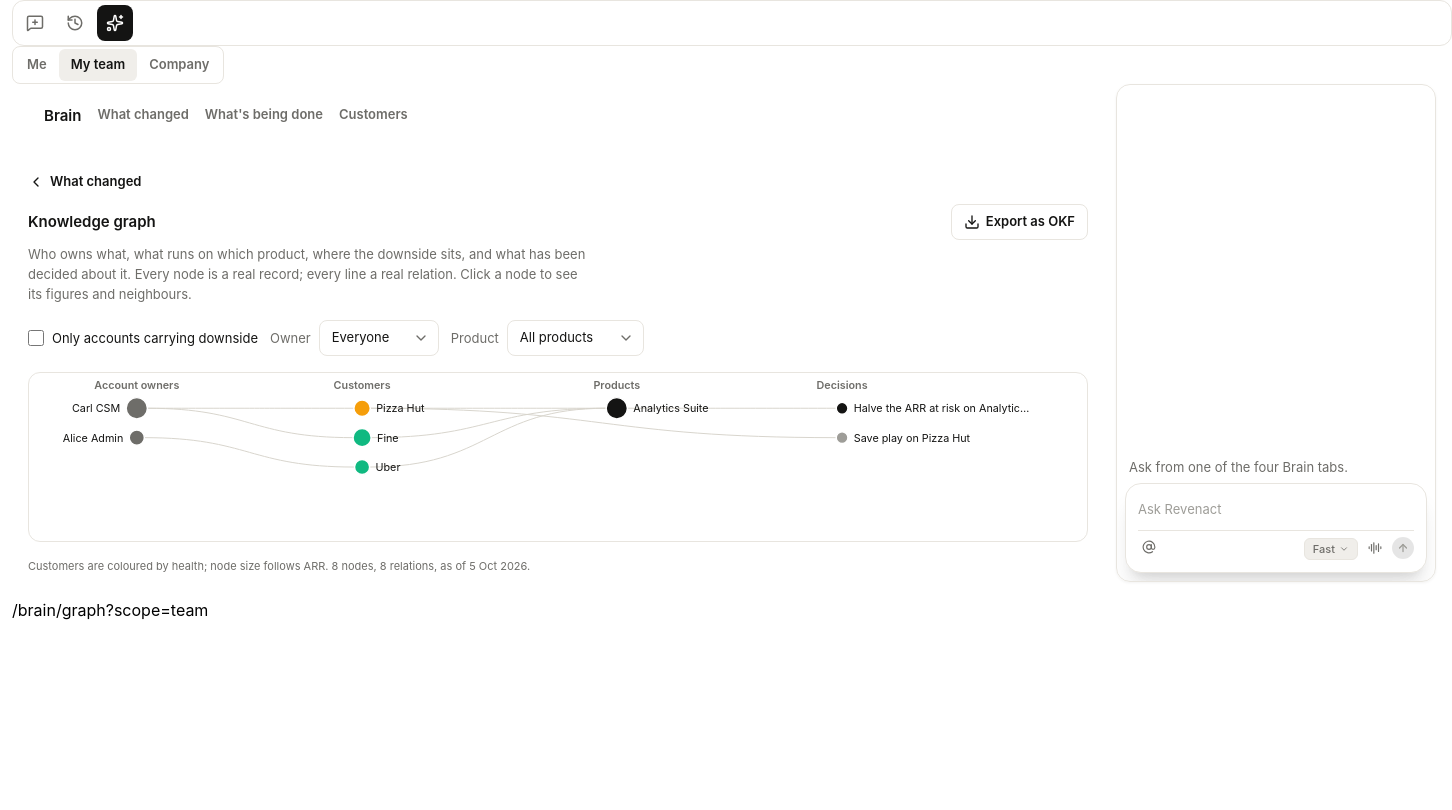
Knowledge graph (customers spec §2.2, Decision 5) › filters to the accounts carrying downside and everything they connect to
Expected: the button "customer Pizza Hut" is shown, [376,402,424,415]
Click the checkbox labelled "Only accounts carrying downside" at [36, 338], box [28,330,44,346]
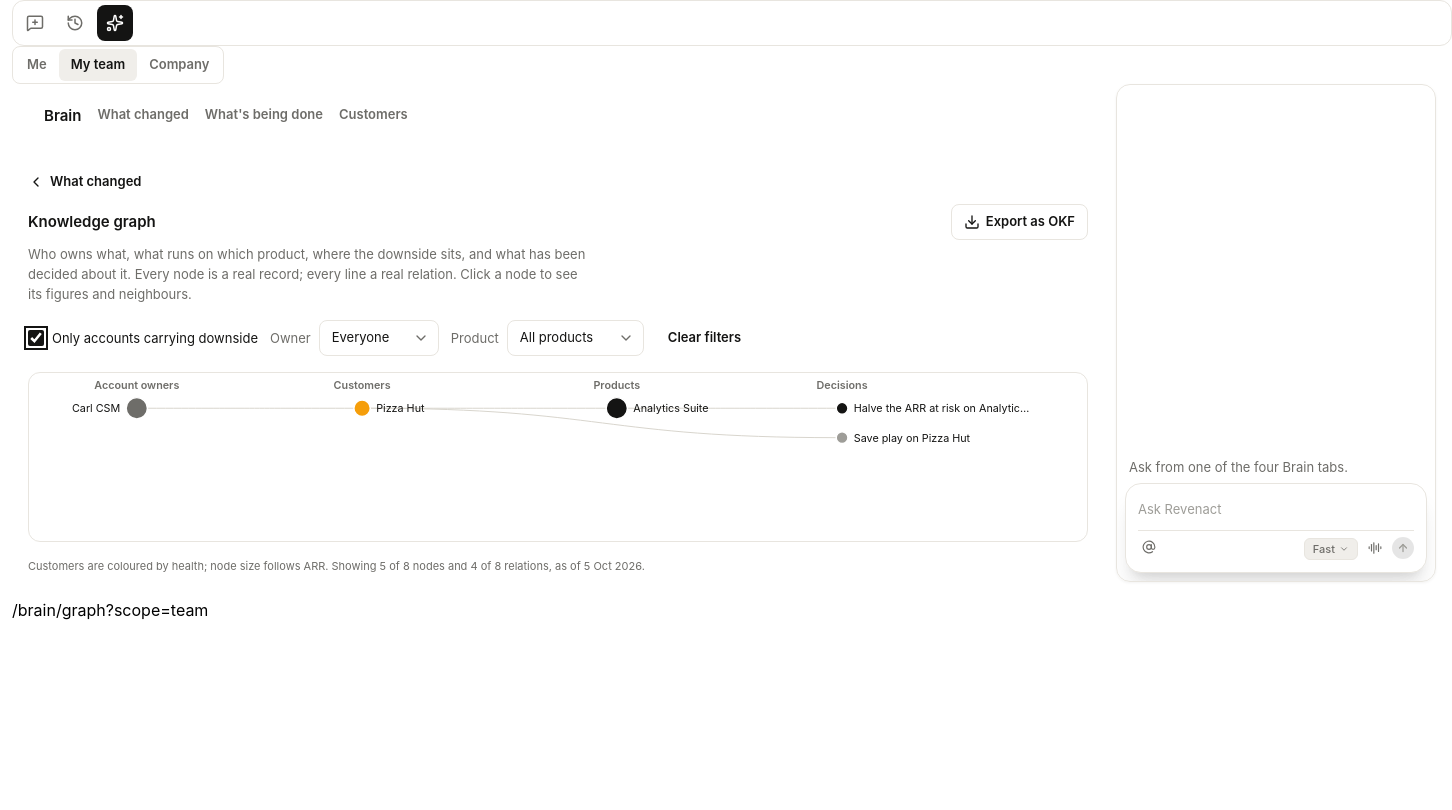
Now the text "Showing 5 of 8 nodes and 4 of 8 relations" is shown, box [332,560,549,574]
Click the button "Clear filters" at [704, 338], box [656,320,753,356]
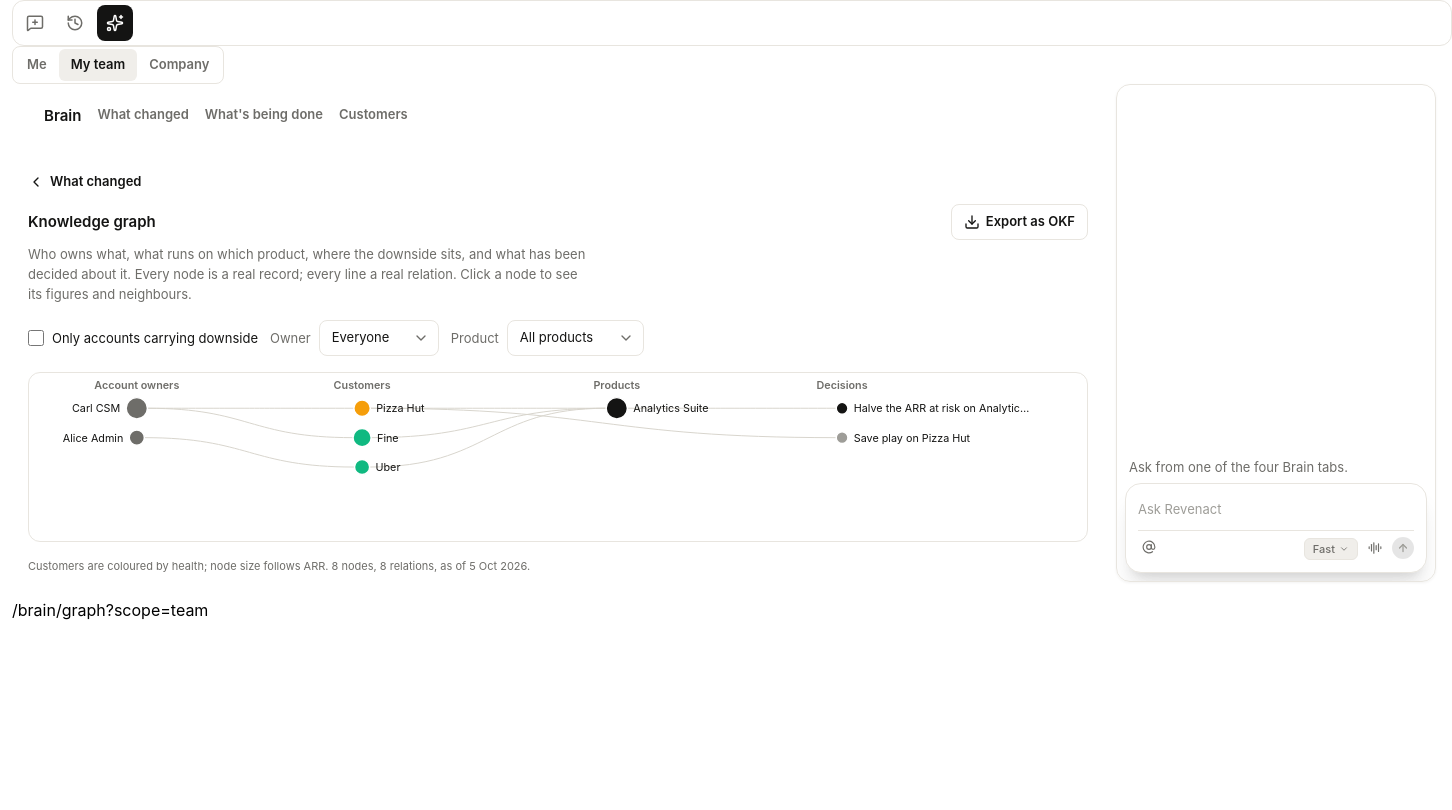
Now the text "8 nodes, 8 relations" is shown, box [332,560,434,574]
